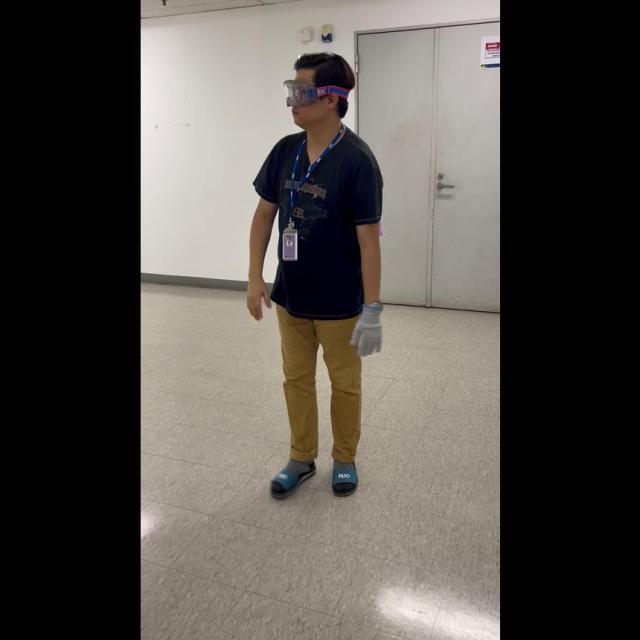bare_hand: (243, 272, 270, 321)
gloved_hand: (347, 300, 385, 356)
